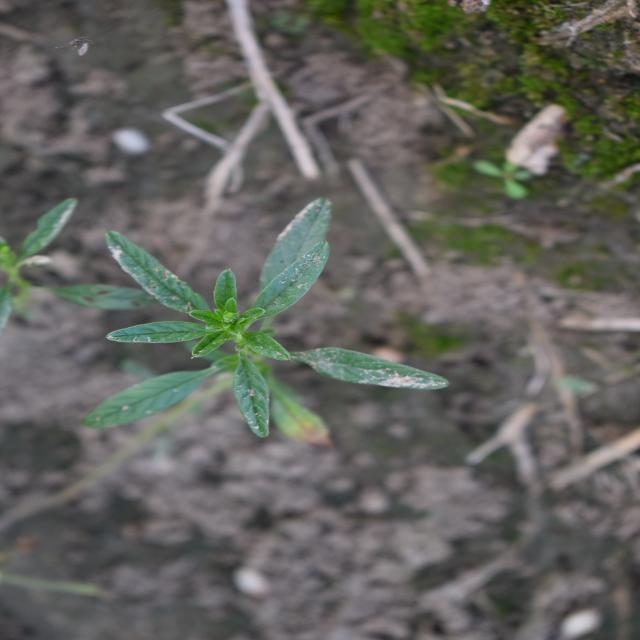Waterhemp: (80, 196, 452, 452)
